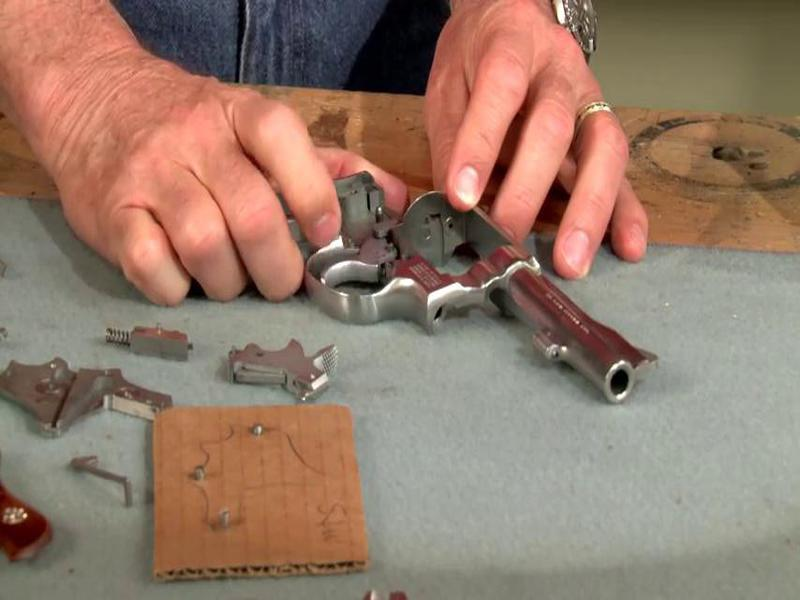Revolver: (268, 133, 671, 443)
